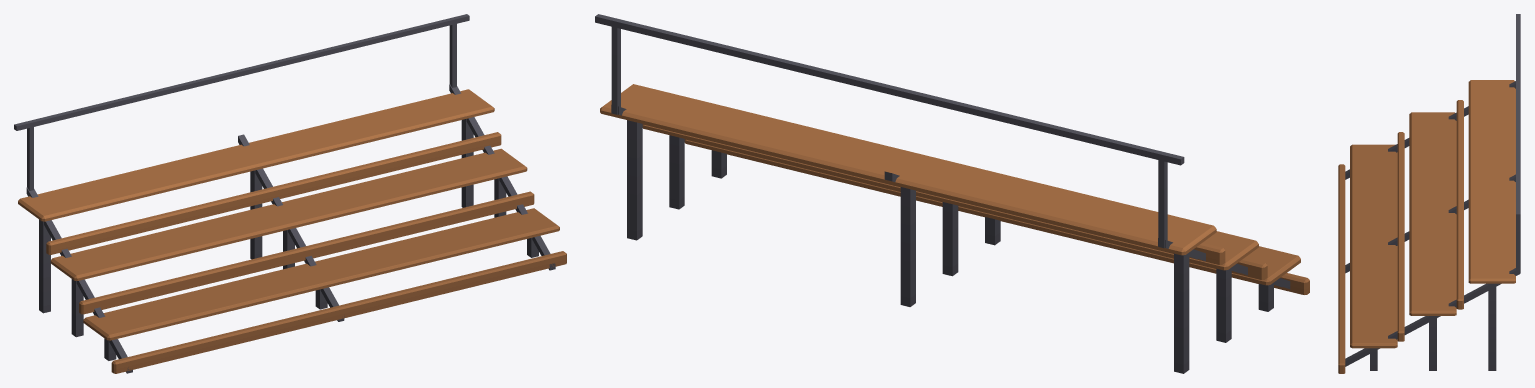
The model's file is ballfield_bleachers.glb.
3 renders of one model, left to right at view 1: azimuth 30°, elevation 25°; view 2: azimuth 150°, elevation 25°; view 3: azimuth 270°, elevation 25°, orthographic. The views are drawn at different scales.
Visible parts, largest first — view 1: ballfield_bleachers; view 2: ballfield_bleachers; view 3: ballfield_bleachers.
Boxes of the visible parts, left/top/right/bottom form: ballfield_bleachers: left=14, top=14, right=566, bottom=373; ballfield_bleachers: left=595, top=14, right=1309, bottom=373; ballfield_bleachers: left=1338, top=14, right=1520, bottom=373.
Bounding box in the file's own units: 6 × 2.26 × 2.31.
Materials: 1 (1 with a texture image).
